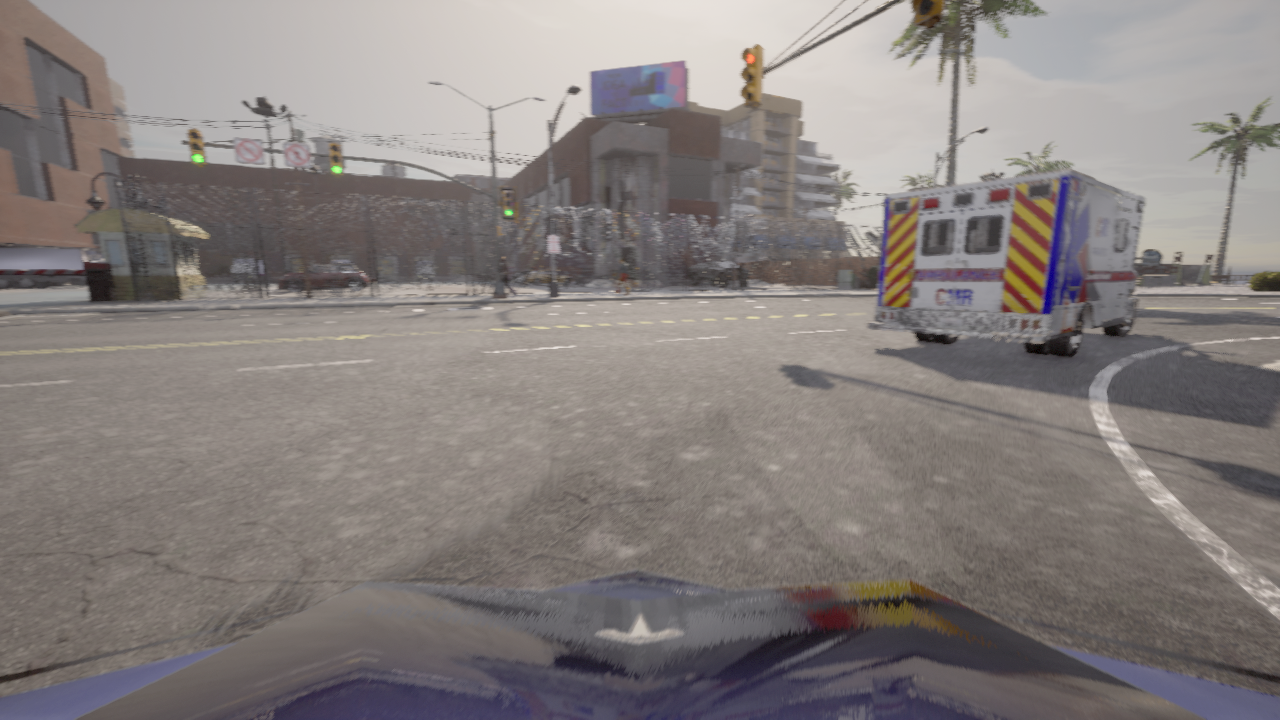cyclist: (0, 569, 1279, 719), (868, 169, 1162, 356), (278, 263, 368, 292), (688, 261, 749, 286), (75, 253, 103, 285), (229, 258, 264, 282), (524, 270, 572, 284), (492, 266, 537, 280), (415, 260, 434, 281), (509, 270, 531, 282), (516, 271, 531, 284), (331, 259, 352, 263), (366, 273, 370, 283), (369, 276, 375, 282)
pedestrian: (501, 256, 516, 296), (614, 258, 629, 294)
